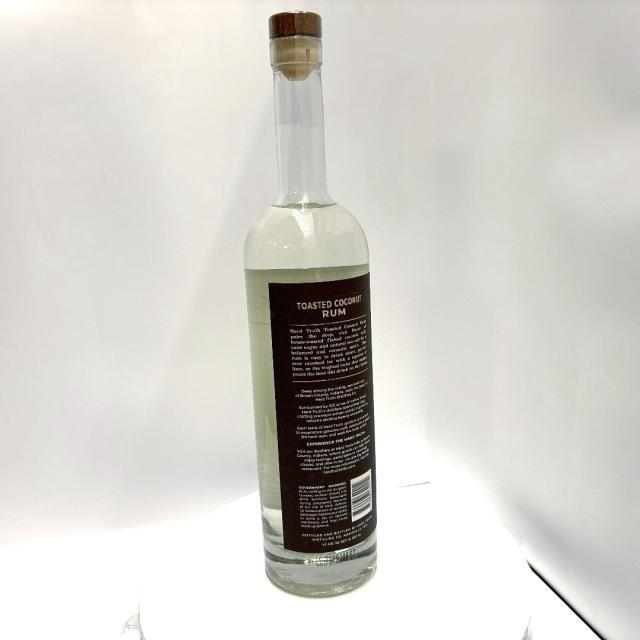HARD-TRUTH-TOASTED-COCONUT-RUM-750ML: (240, 9, 382, 606)
